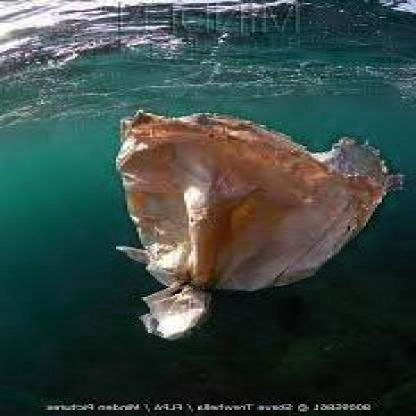pbag: (114, 106, 409, 340)
